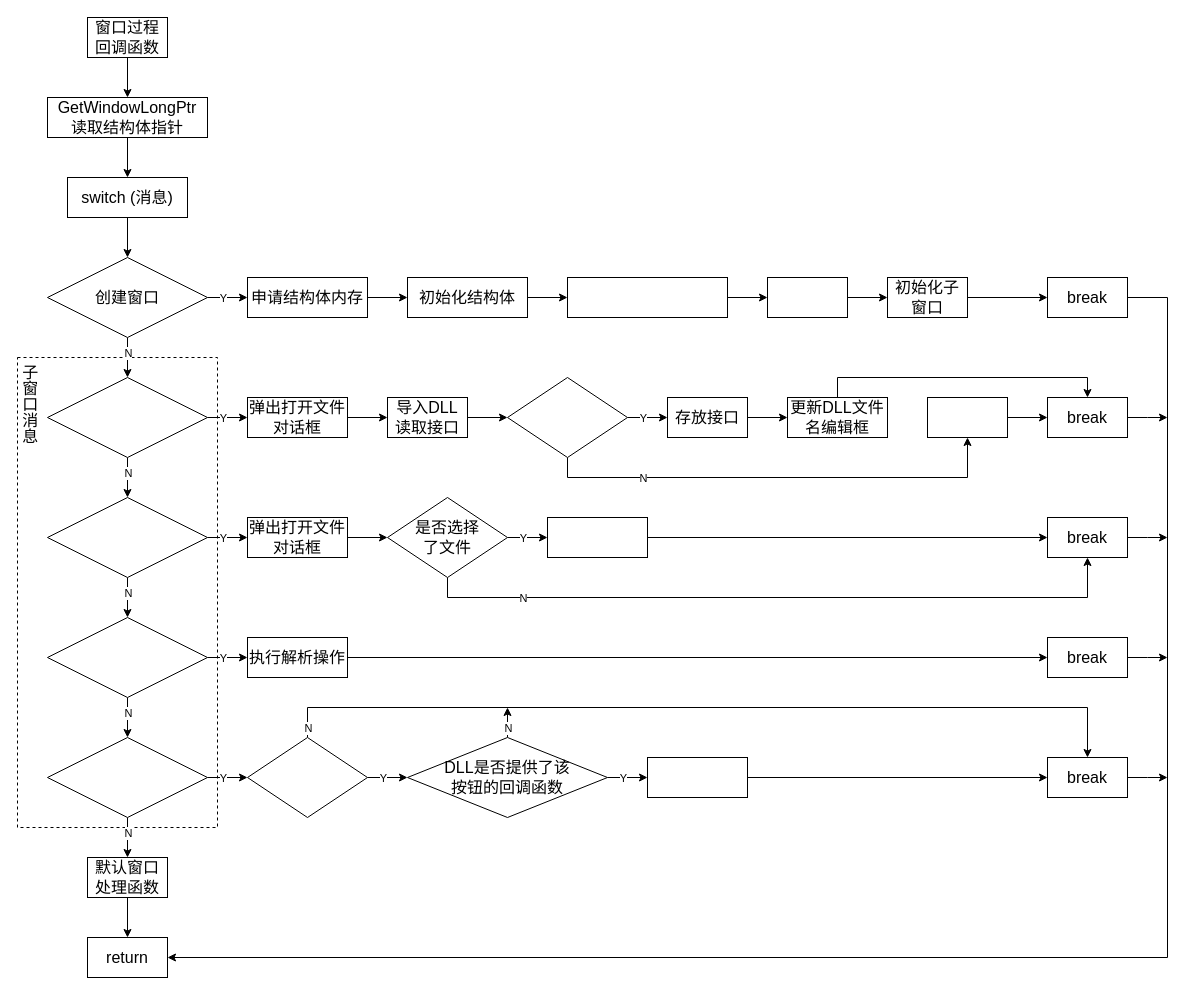
Image size: 1193x995. Some labels were removed from this diagram. Here are the shapes that lost their labels. From the top down, the centre of each, then its label:
point (647, 297): SetWindowLongPtr 存放结构体指针
point (807, 297): 创建所有子窗口
point (127, 417): case 导入DLL按钮
point (567, 417): 判断接口 是否兼容
point (967, 417): 弹出错误提示
point (127, 537): 选择文件夹按钮
point (597, 537): 更新路径 输入框
point (127, 657): 解析按钮
point (127, 777): 自定义设置按钮
point (307, 777): 是否导入 了DLL
point (697, 777): 执行回调函数
